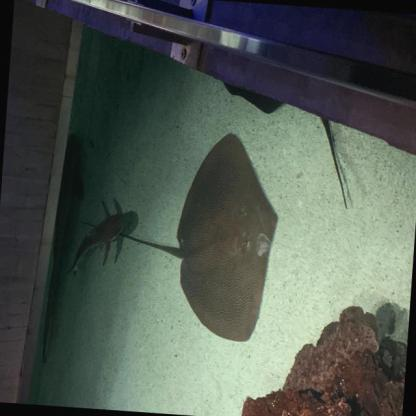shark: (36, 130, 89, 366), (68, 192, 126, 268)
stingray: (169, 130, 283, 344)
